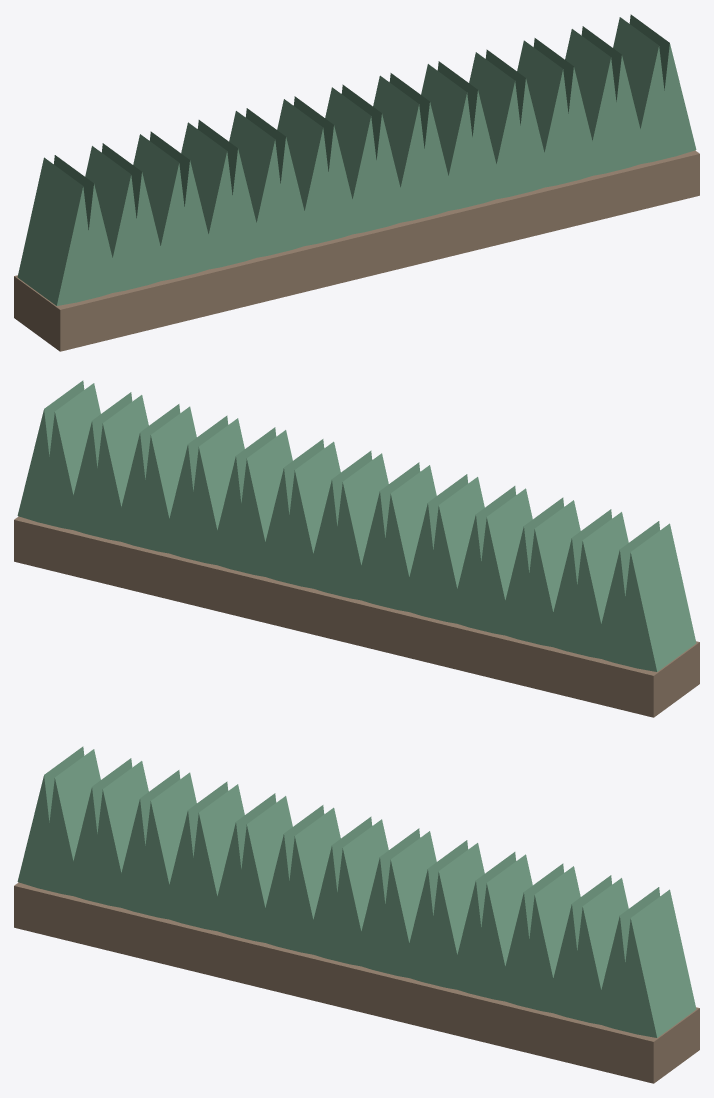
Rendered from jump-brush-filler.glb.
The picture shows the model from 3 angles, top to bottom: view 1: azimuth 30°, elevation 25°; view 2: azimuth 150°, elevation 25°; view 3: azimuth 330°, elevation 25°; orthographic projection.
Visible parts, largest first — view 1: jump-brush-filler; view 2: jump-brush-filler; view 3: jump-brush-filler.
Part boxes in pixels (left/top/right/bottom): jump-brush-filler: left=14, top=14, right=699, bottom=351; jump-brush-filler: left=14, top=380, right=699, bottom=717; jump-brush-filler: left=14, top=746, right=699, bottom=1083.
Size of the model in its own units: 3.2 by 0.749 by 0.4.
